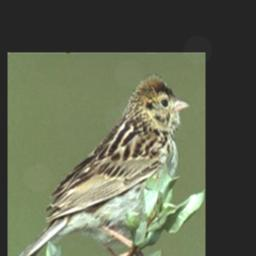Sparrow: (9, 69, 191, 256)
